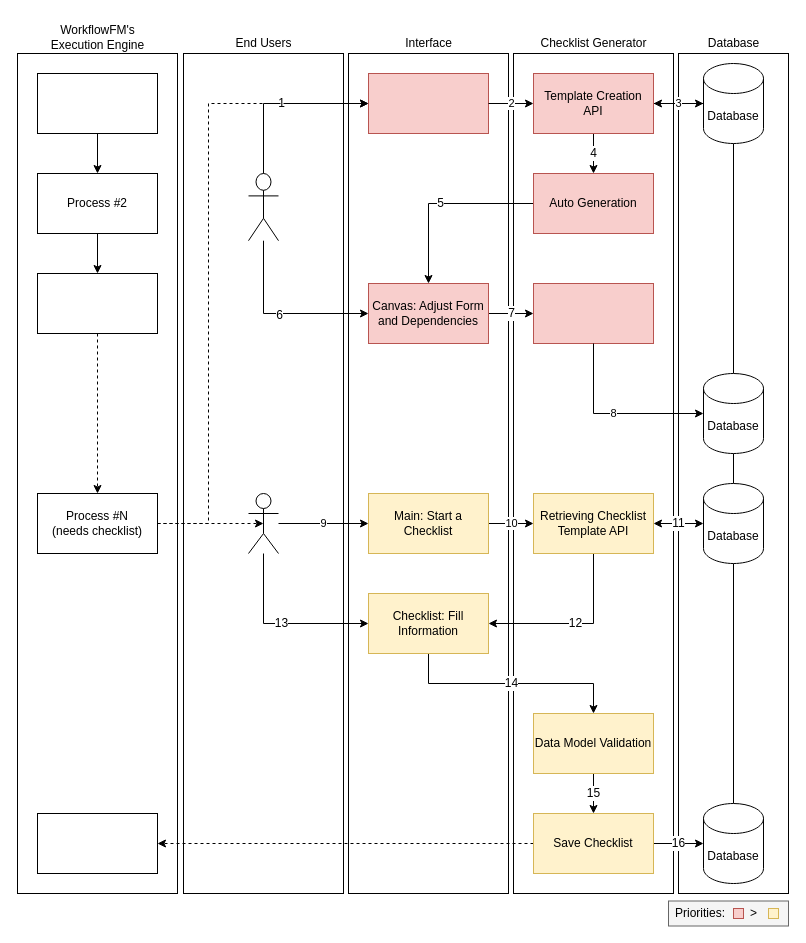
Image size: 806x943. Some labels were removed from this diagram. The shapes that lost their labels are listed below. From the top down, each one's centre as x and y in pixels, then its label:
At [97,103]: "Process #1".
At [428,103]: "Main: Template Creation Screen".
At [263,206]: "Checklist Designer".
At [97,303]: "Process #3".
At [593,313]: "Save Template".
At [263,523]: "User".
At [97,843]: "Process #(N+1)".
